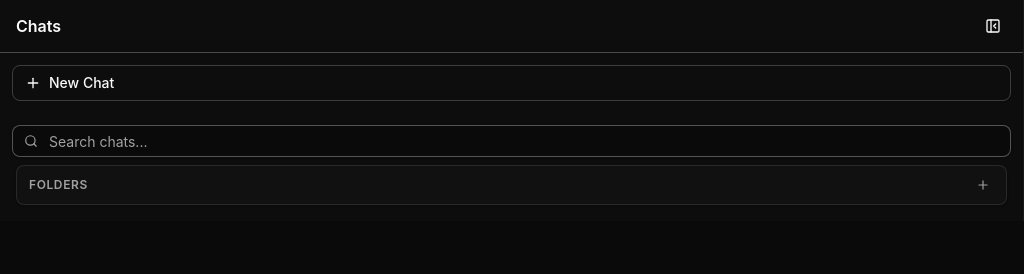
Scenario: SessionList › Folders › should show new folder input when + button clicked
Click the button named "New folder": (983,185) [972,174,994,196]
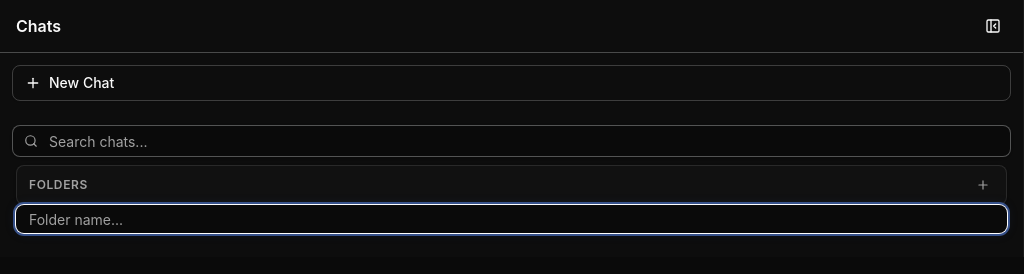
Now the field with placeholder "Folder name..." is shown, box [16,205,1007,233]
